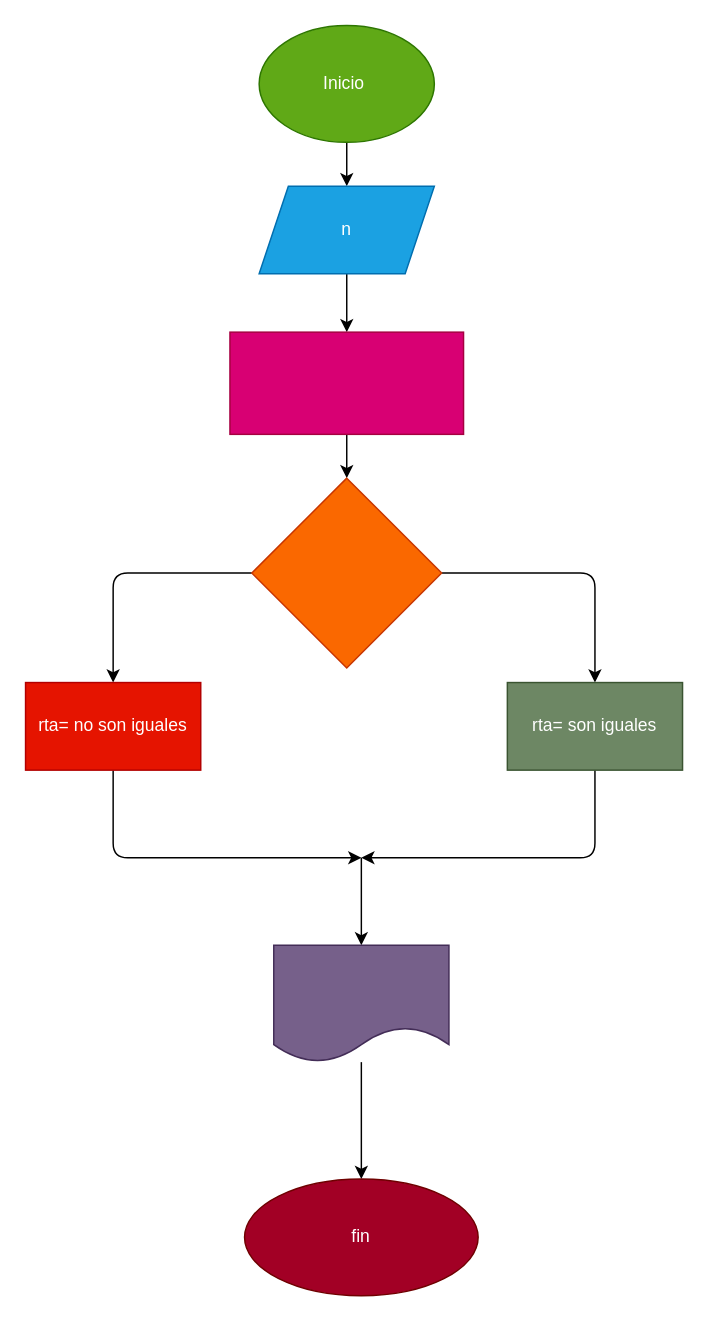
Some shapes in this 708 by 1321 pixel diagram are drawn without their labels. The centre of each missing label's shape, as x and y in pixels:
"rta" goes at pixel 360 1003.
"ultimo_digito = n % 10 penultimo= (n%100)//10" goes at pixel 346 382.
"ultimo_digito == penultimo" goes at pixel 346 572.
